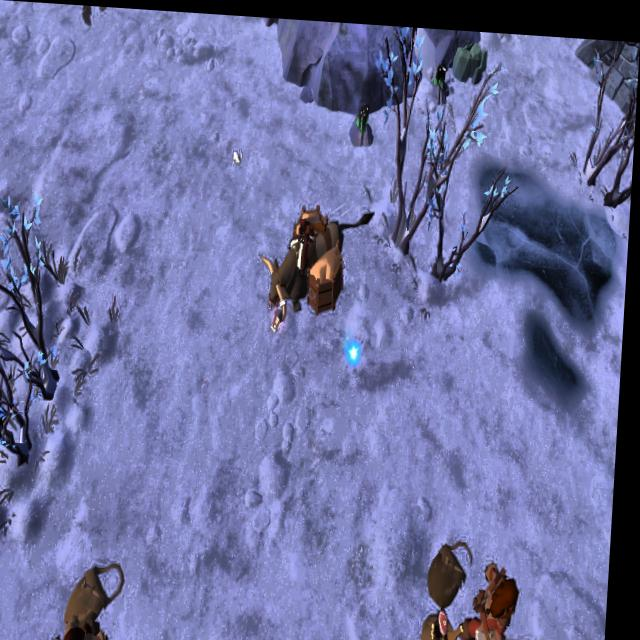enemy_factionKeeper: (472, 559, 541, 640)
ore_t3: (352, 95, 373, 134), (431, 54, 449, 92)
rock_t3: (450, 30, 493, 83)
